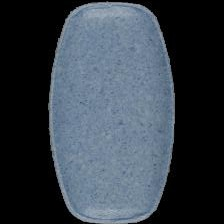21695-002: (0, 0, 224, 224)
